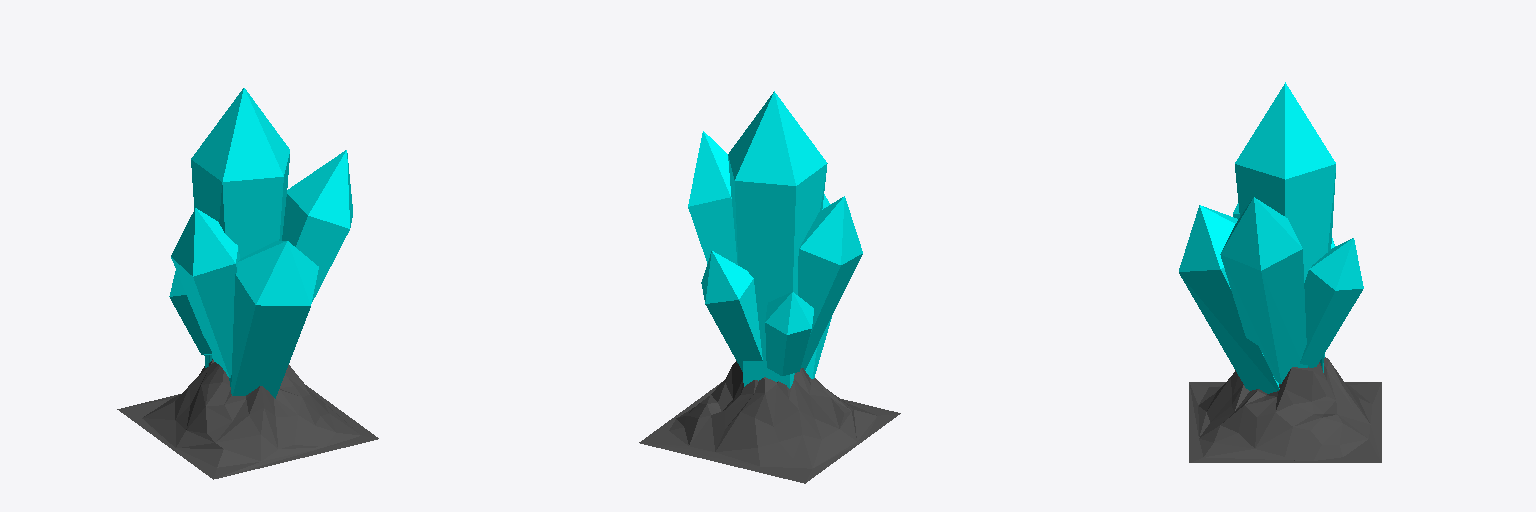
The model's file is Crystal.obj.
3 views of the same model, side by side, from view 1: azimuth 30°, elevation 25°; view 2: azimuth 150°, elevation 25°; view 3: azimuth 270°, elevation 25° (orthographic).
Visible parts, largest first — view 1: pCylinder10; view 2: pCylinder10; view 3: pCylinder10.
Boxes of the visible parts, x1=… form: pCylinder10: x1=117, y1=88, x2=378, y2=479; pCylinder10: x1=639, y1=91, x2=900, y2=483; pCylinder10: x1=1179, y1=82, x2=1381, y2=462.
Size of the model in its own units: 3.79 by 6.97 by 3.8.